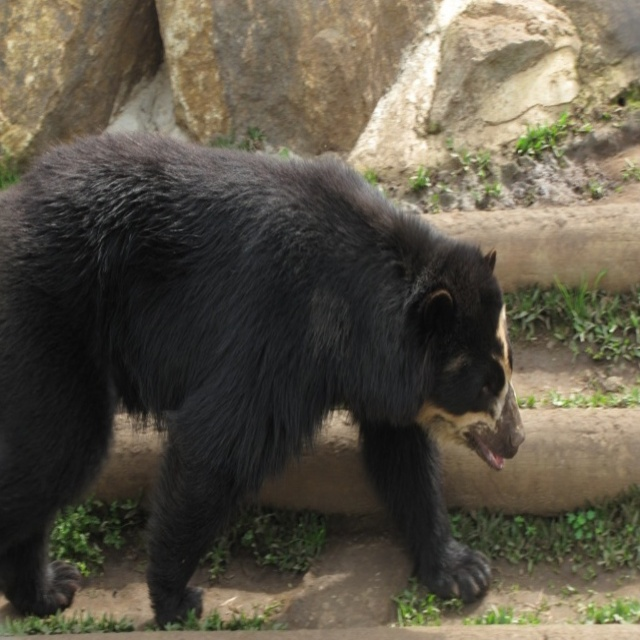Bear: (0, 126, 526, 629)
